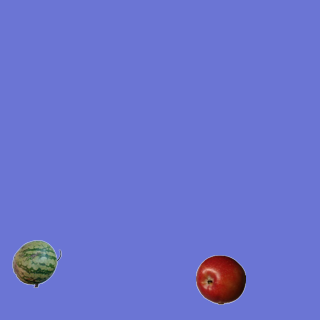Apple Braeburn: (195, 254, 245, 304)
Watermelon: (11, 238, 61, 288)
